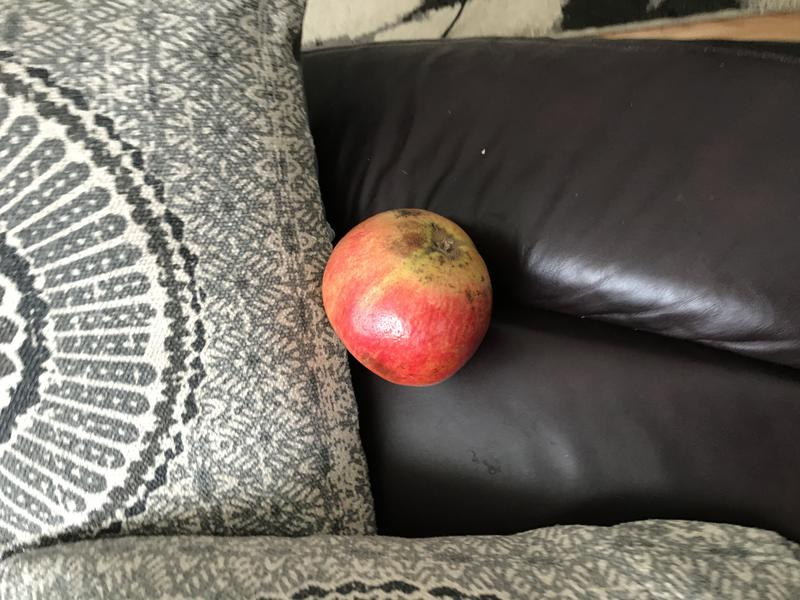pomegranate: (306, 197, 503, 398)
